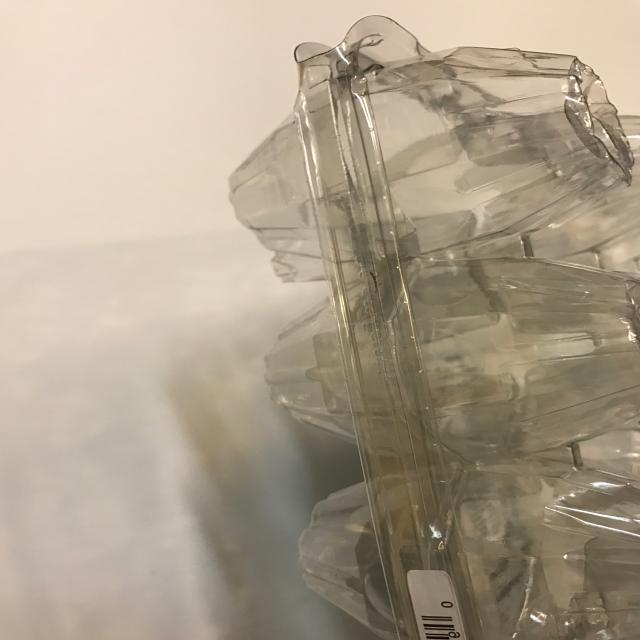plastic: (227, 14, 640, 640)
